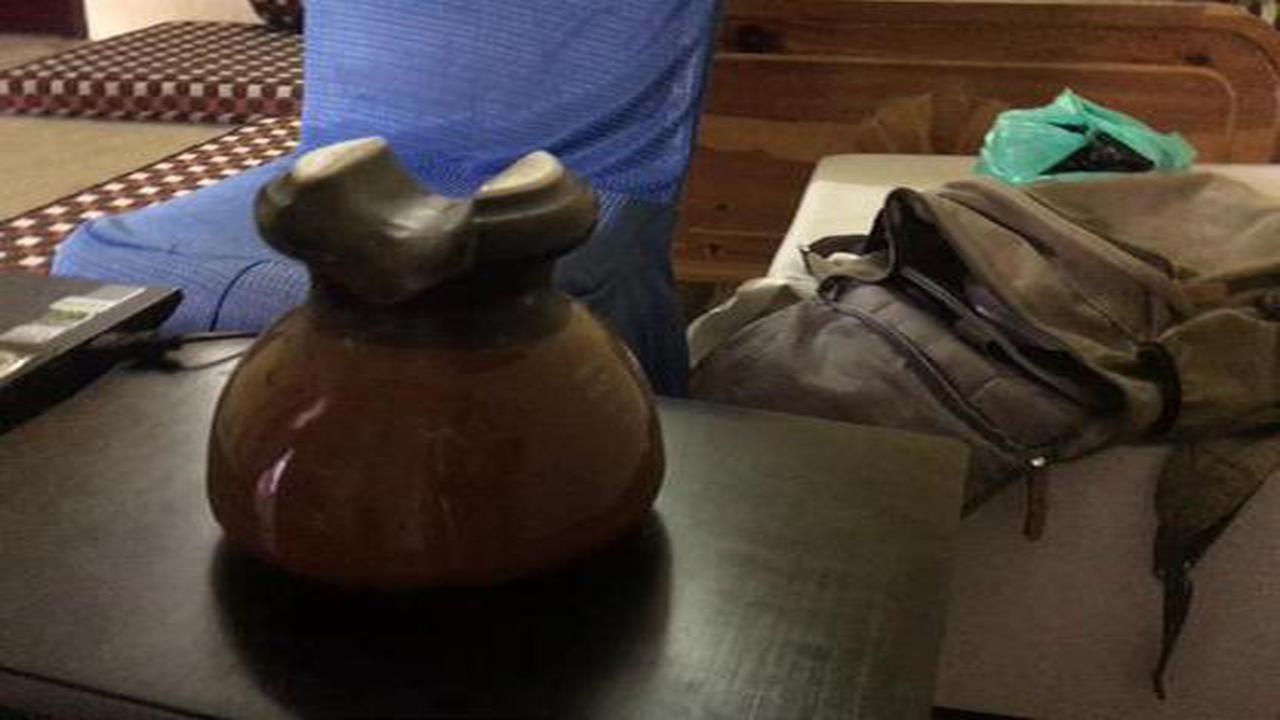insulator_pin: (185, 118, 693, 618)
